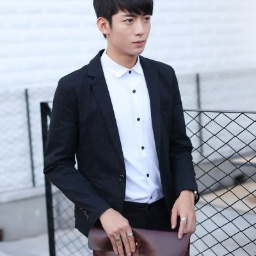face: (90, 1, 154, 58)
